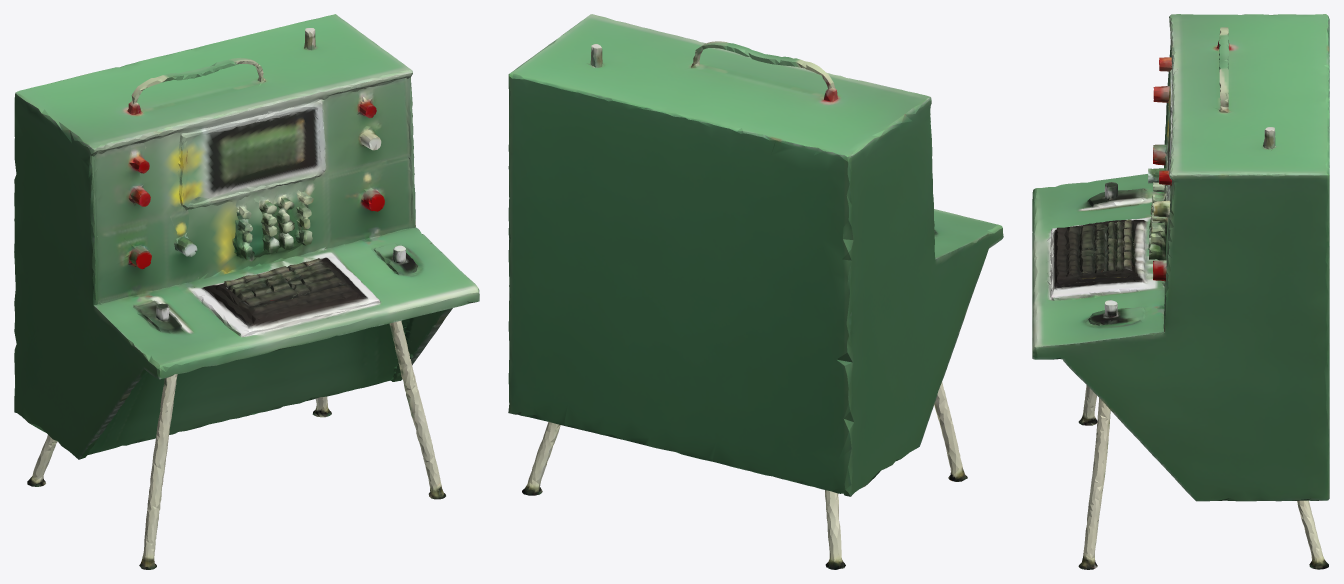
Rendered from codebreakers_terminal.glb.
The picture shows the model from 3 angles, left to right: view 1: azimuth 30°, elevation 25°; view 2: azimuth 150°, elevation 25°; view 3: azimuth 270°, elevation 25°; orthographic projection. The views are drawn at different scales.
Parts seen in each view (by area): view 1: codebreakers_terminal; view 2: codebreakers_terminal; view 3: codebreakers_terminal.
Part boxes in pixels (<box>): codebreakers_terminal: <box>14,14,479,569</box>; codebreakers_terminal: <box>508,14,1003,569</box>; codebreakers_terminal: <box>1032,14,1329,569</box>.
Size of the model in its own units: 1.52 by 1.9 by 1.19.
1 material, 1 textured.
